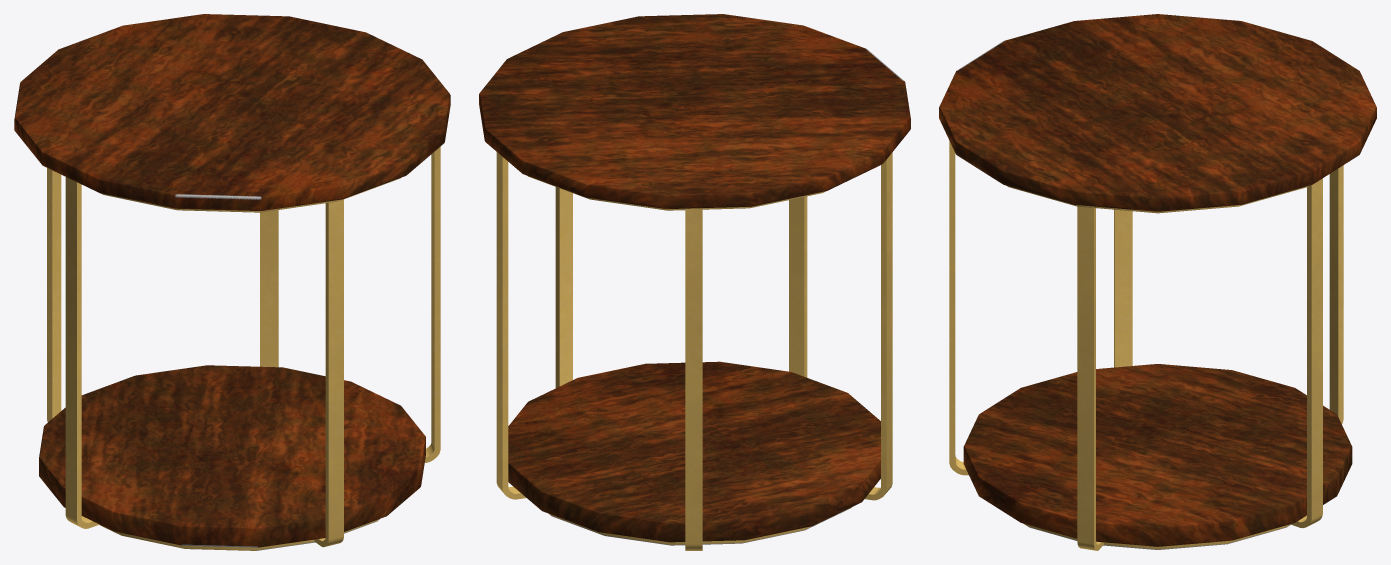
File: small_side_table.fbx
3 views of the same model, side by side, from view 1: azimuth 30°, elevation 25°; view 2: azimuth 150°, elevation 25°; view 3: azimuth 270°, elevation 25° (orthographic).
Parts seen in each view (by area): view 1: Plane.004; view 2: Plane.004; view 3: Plane.004.
Boxes of the visible parts, box(x1,y1,x2,y2) form: Plane.004: box(14, 14, 450, 550); Plane.004: box(479, 14, 910, 550); Plane.004: box(939, 14, 1376, 550).
Size of the model in its own units: 64.19 by 59.48 by 64.19.
